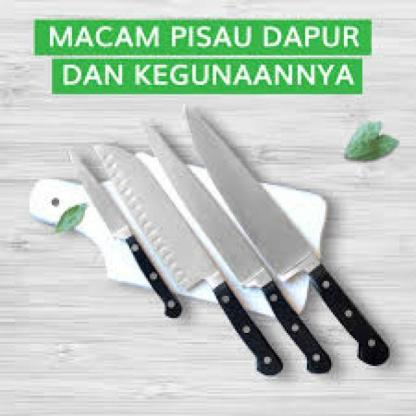Knife: (63, 102, 394, 402)
